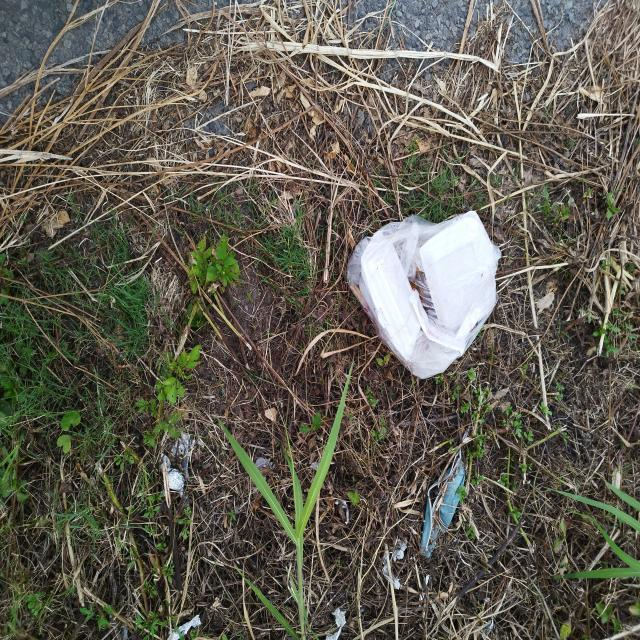mask: (419, 454, 467, 556)
trash bag: (346, 210, 501, 380)
